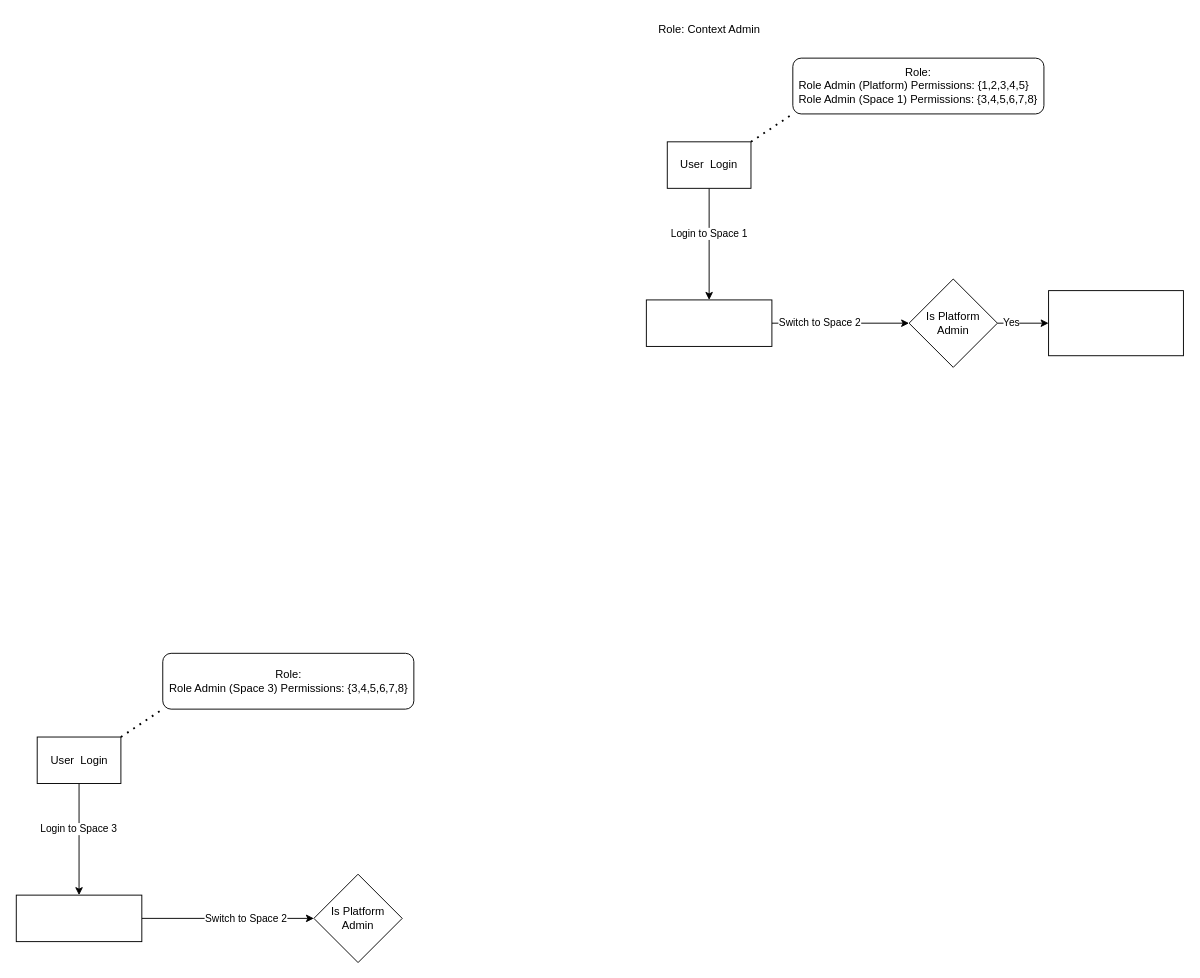
Image size: 1200x978. Some labels were removed from this diagram. Each missing label, with the centre of its shape:
"Permissions: {1,2,3,4,5,6,7,8}" goes at pixel 708 322.
"Permissions: {1,2,3,4,5}" goes at pixel 1115 323.
"Permissions: {3,4,5,6,7,8}" goes at pixel 78 918.
